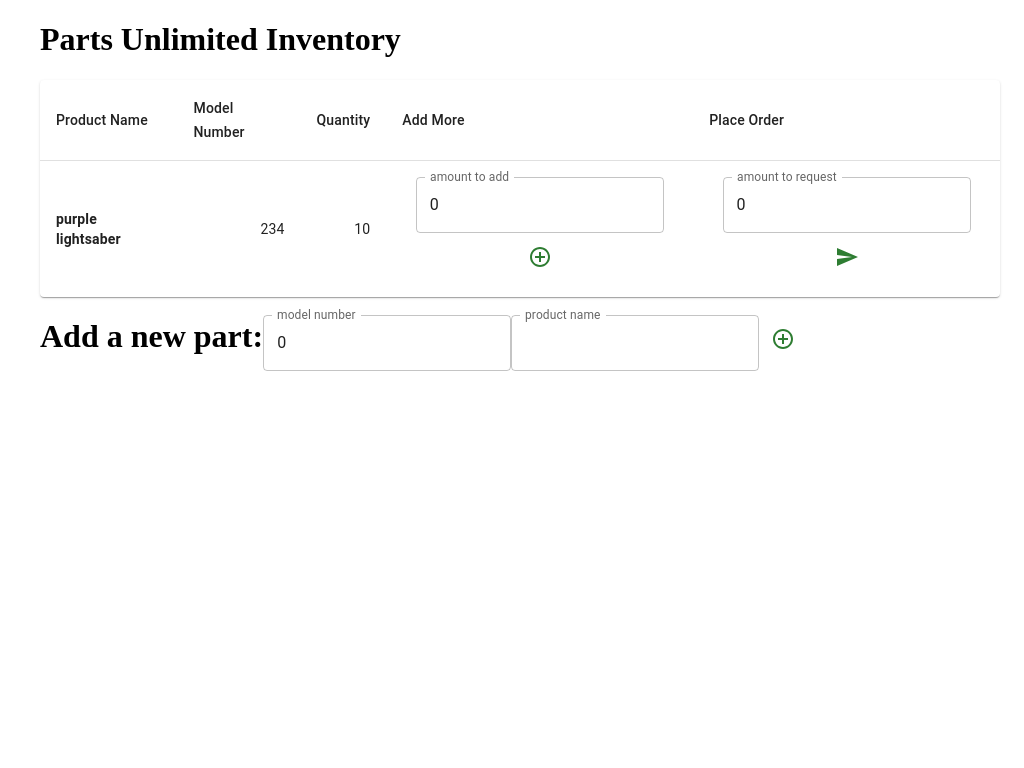
Scenario: Parts Unlimited › when I order a product › should let me know that the order was successful
This screenshot has width=1024, height=768.
Check: the text "purple lightsaber" is shown, box [56,211,121,247]
Type "7" into the field labelled "amount to request" at (847, 205), box [723,177,971,233]
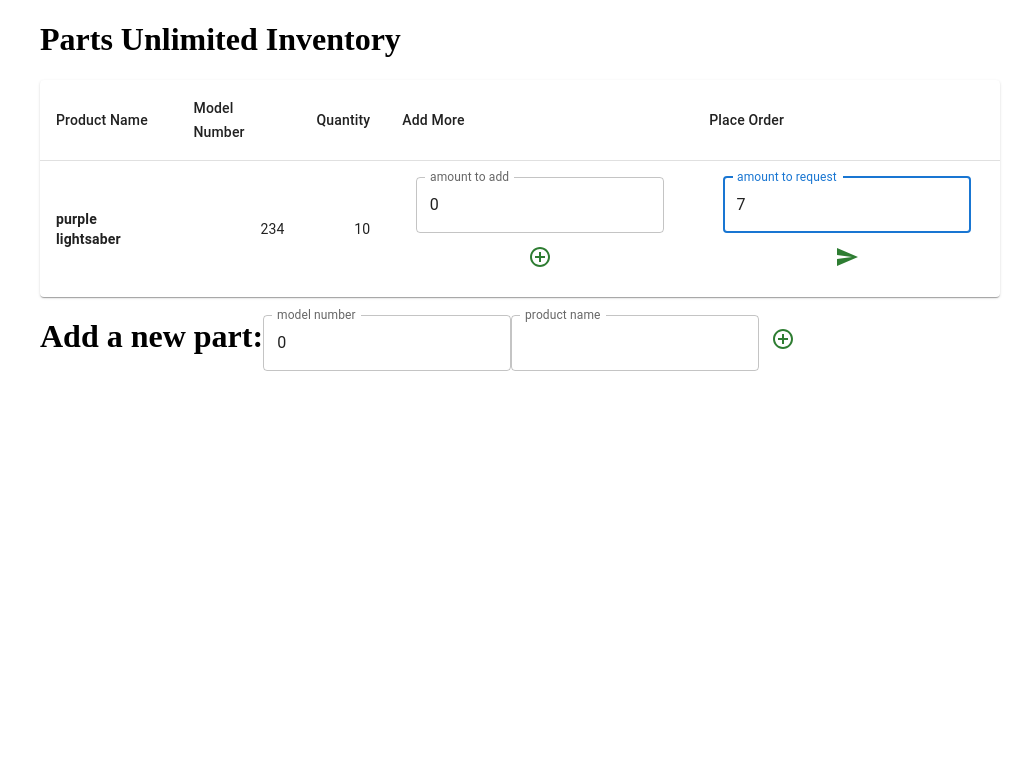
Click the button named "request quantity" at (847, 257), box [823,233,871,281]
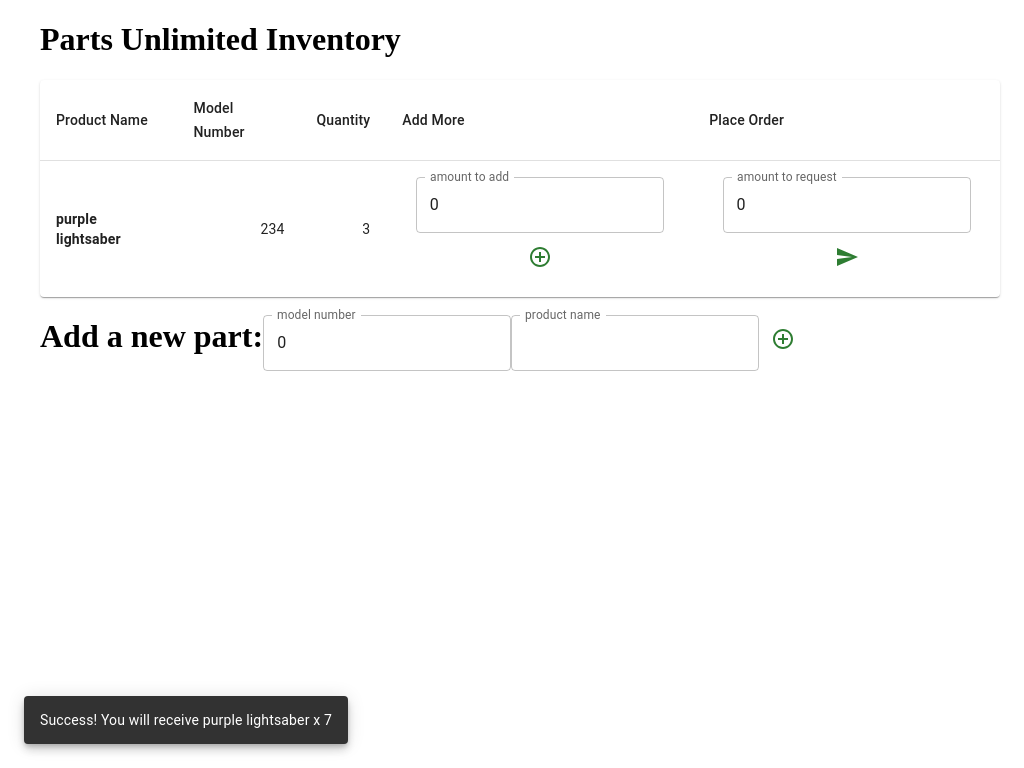
Check: the text "3" is shown, box [300,160,386,297]
